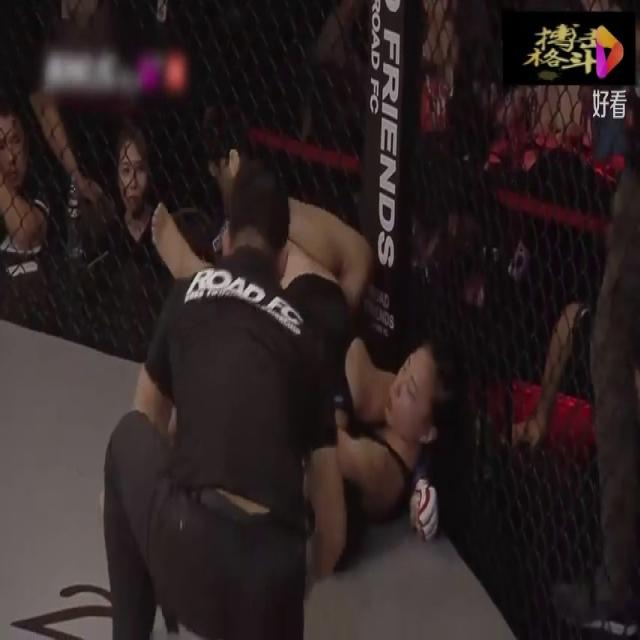fight: (95, 136, 451, 639)
